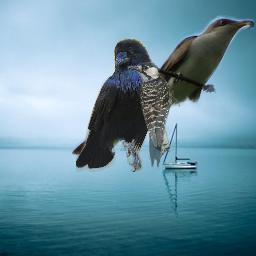Crow: (76, 38, 164, 172)
Cuckoo: (71, 15, 254, 158)
Woodpecker: (127, 62, 181, 170)
